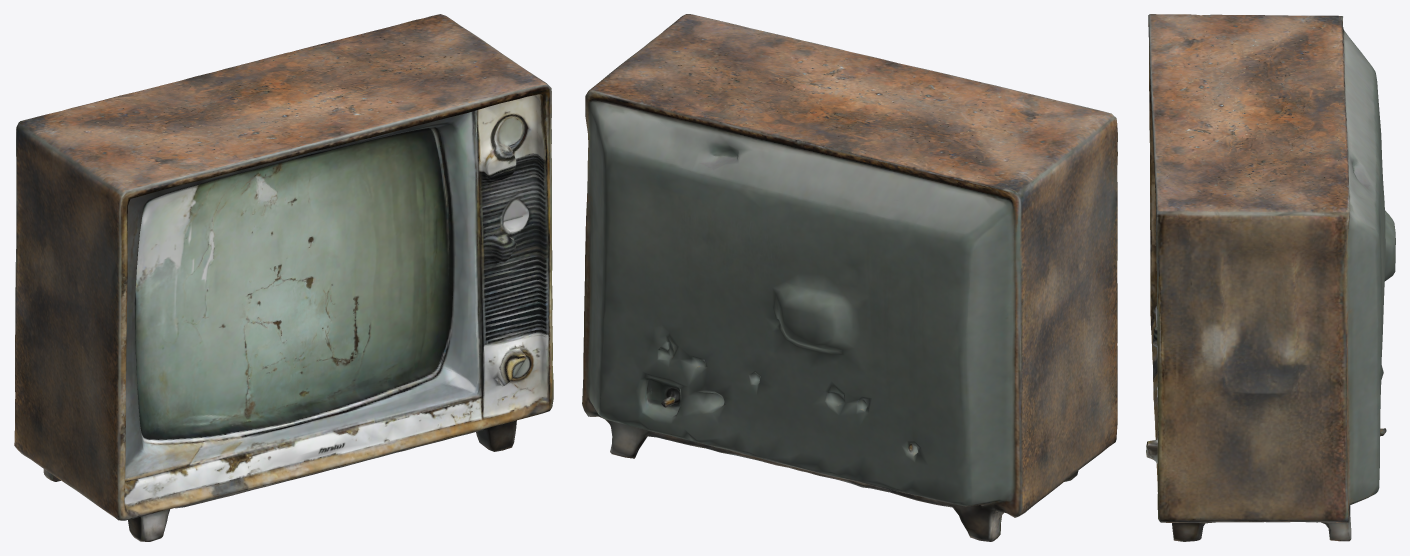
File: Retro_Television_0310101655_texture.fbx
3 renders of one model, left to right at view 1: azimuth 30°, elevation 25°; view 2: azimuth 150°, elevation 25°; view 3: azimuth 270°, elevation 25°, orthographic. The views are drawn at different scales.
Visible parts, largest first — view 1: Mesh1_Mesh1.043; view 2: Mesh1_Mesh1.043; view 3: Mesh1_Mesh1.043.
Boxes of the visible parts, box(x1,y1,x2,y2) form: Mesh1_Mesh1.043: box(14, 14, 553, 541); Mesh1_Mesh1.043: box(582, 14, 1117, 541); Mesh1_Mesh1.043: box(1146, 14, 1395, 541).
Bounding box in the file's own units: 200 × 158 × 103.
1 material, 1 textured.
